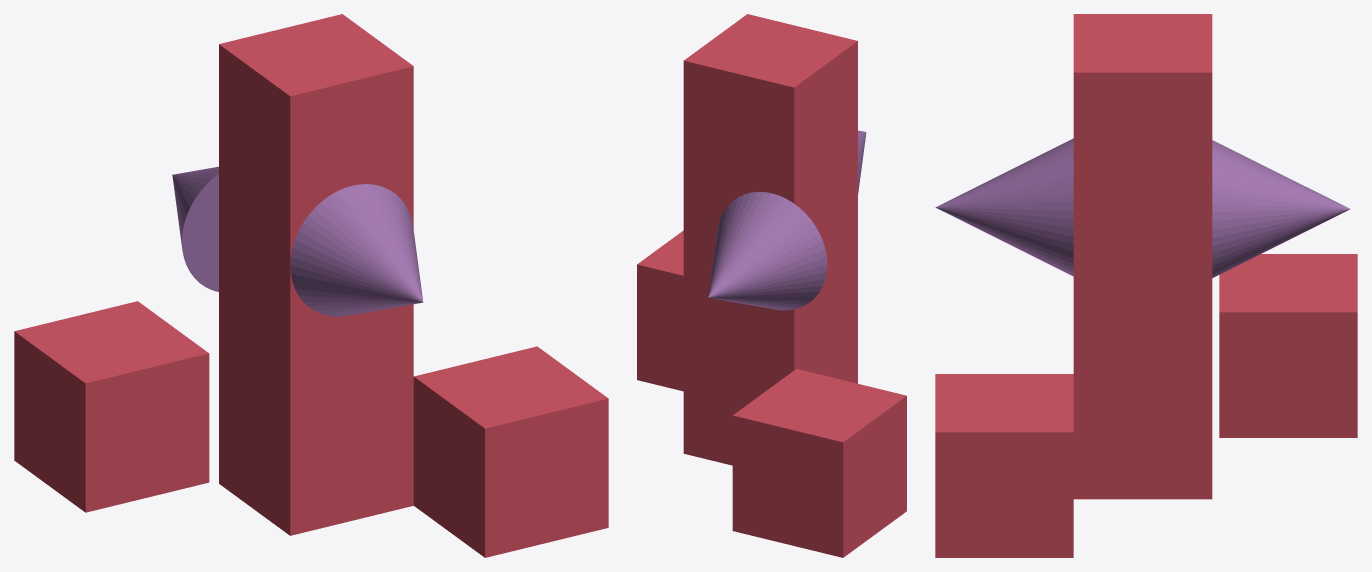
File: BobbleHead.glb
3 views of the same model, side by side, from view 1: azimuth 30°, elevation 25°; view 2: azimuth 150°, elevation 25°; view 3: azimuth 270°, elevation 25° (orthographic). The views are drawn at different scales.
Parts seen in each view (by area): view 1: Mesh_Mesh_head_geo.001_lambert2SG.001; view 2: Mesh_Mesh_head_geo.001_lambert2SG.001; view 3: Mesh_Mesh_head_geo.001_lambert2SG.001.
Part boxes in pixels (left/top/right/bottom): Mesh_Mesh_head_geo.001_lambert2SG.001: left=14, top=14, right=608, bottom=557; Mesh_Mesh_head_geo.001_lambert2SG.001: left=637, top=14, right=906, bottom=557; Mesh_Mesh_head_geo.001_lambert2SG.001: left=935, top=14, right=1357, bottom=557.
Size of the model in its own units: 0.061 by 0.068 by 0.061.
